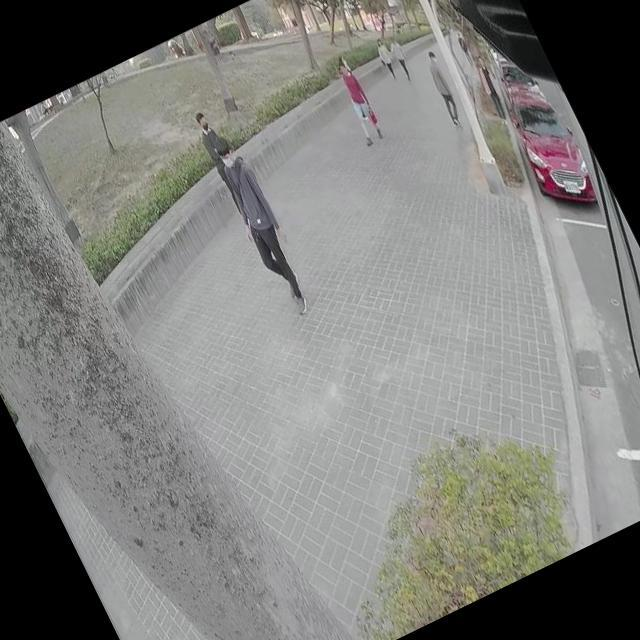person: (205, 132, 318, 318), (330, 56, 386, 144), (419, 49, 467, 128), (468, 52, 514, 126), (189, 110, 227, 168), (382, 30, 412, 79), (372, 39, 398, 82), (337, 51, 353, 74)
